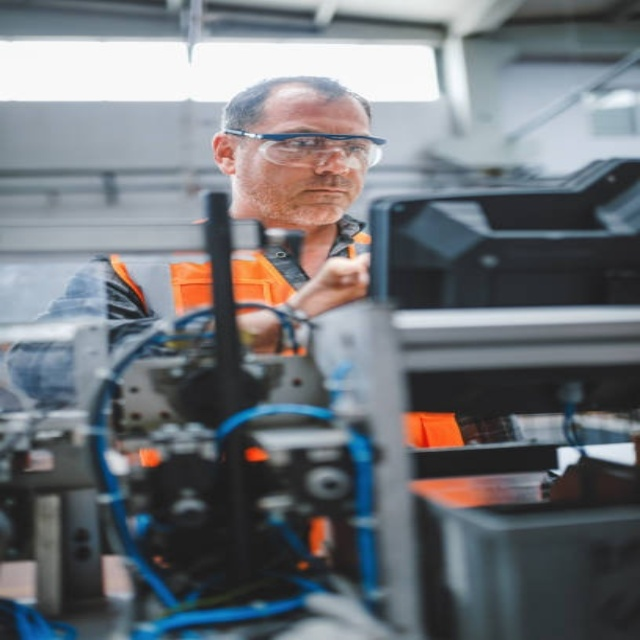Gafas: (227, 130, 387, 171)
Sin_mascara: (282, 180, 350, 215)
